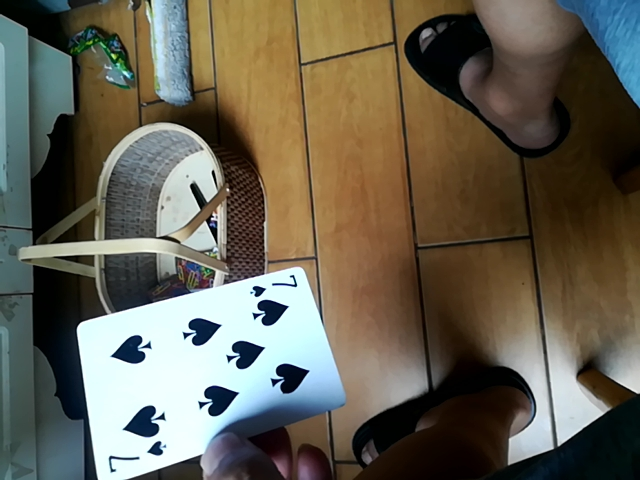ht 7: (80, 265, 342, 477)
